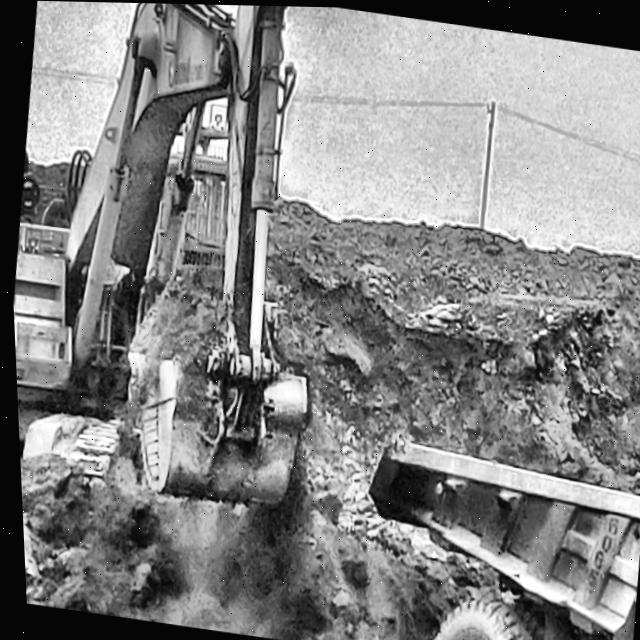dump_truck: (361, 444, 640, 640)
excavator: (10, 2, 296, 517)
